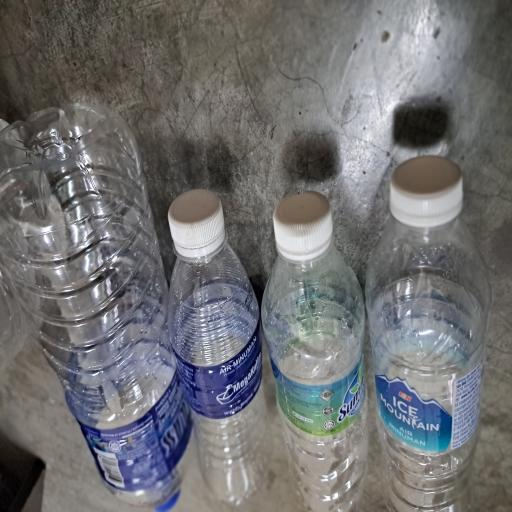plastic bottle: (3, 0, 311, 260), (0, 222, 204, 362), (0, 351, 200, 491)
plastic bottle cap: (196, 364, 242, 445), (198, 224, 244, 300)
